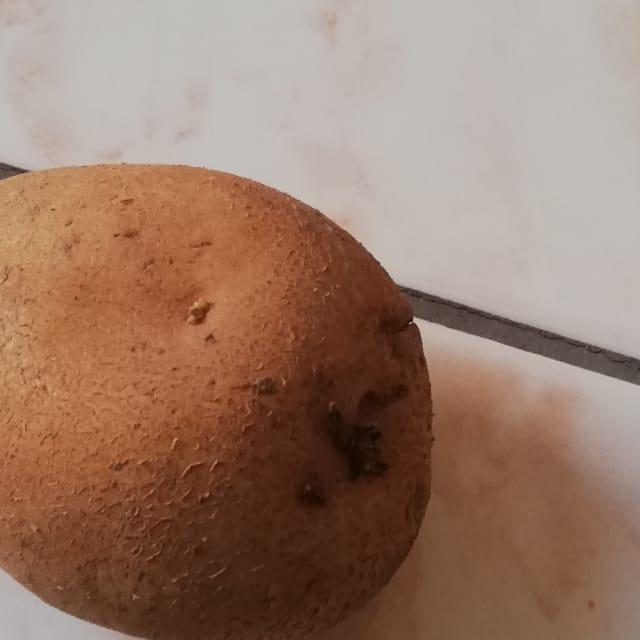potato: (0, 146, 468, 640)
